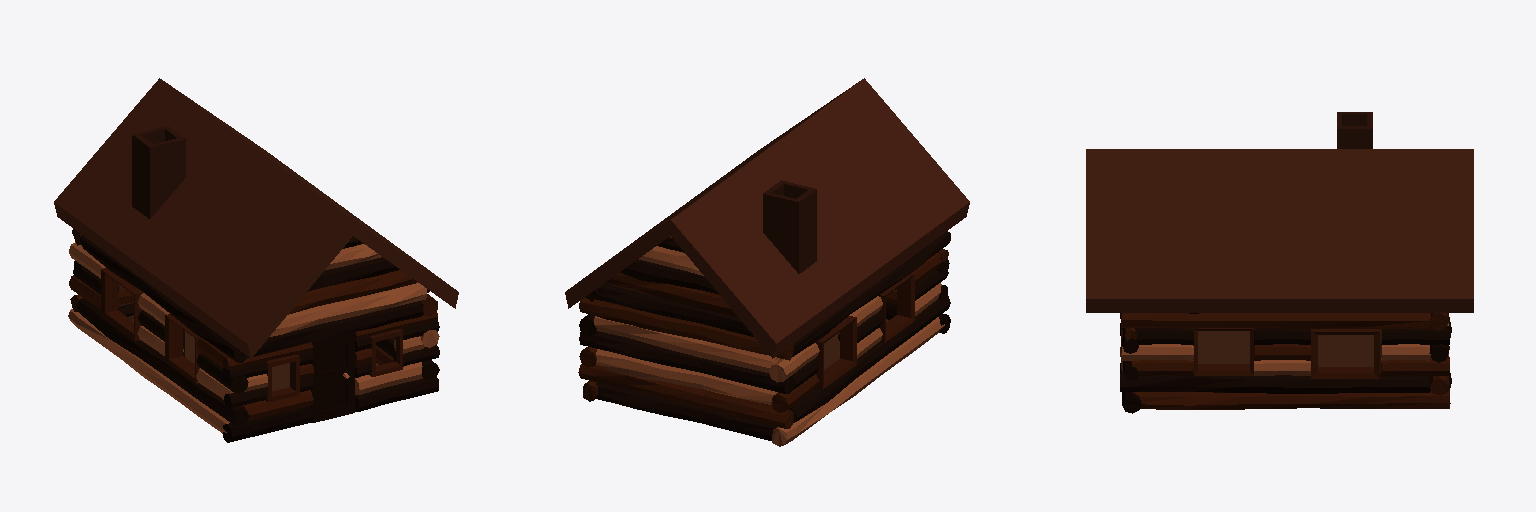
Rendered from cabin-wood.obj.
3 renders of one model, left to right at view 1: azimuth 30°, elevation 25°; view 2: azimuth 150°, elevation 25°; view 3: azimuth 270°, elevation 25°, orthographic.
Parts seen in each view (by area): view 1: Roof_Cube.005, Chamine_Cube.004, Door_Cube.007, log_base.005_Cylinder.015, log_base.026_Cylinder.047, log_base.025_Cylinder.046, log_base.004_Cylinder.014, log_base.007_Cylinder.017, log_base.027_Cylinder.048, Frame_Window_Front_Cube.009, Frame_Win_Side2_Cube.014, log_to_cut.030_Cylinder.061 (+12 smaller); view 2: Roof_Cube.005, Chamine_Cube.004, log_base.009_Cylinder.028, log_base.011_Cylinder.030, log_base.013_Cylinder.032, log_base.010_Cylinder.029, log_base.012_Cylinder.031, log_base.008_Cylinder.027, log_base.005_Cylinder.015, log_base.004_Cylinder.014, log_base.014_Cylinder.033, log_base.007_Cylinder.017 (+7 smaller); view 3: Roof_Cube.005, log_base.001_Cylinder.003, log_base_Cylinder.001, log_base.003_Cylinder.005, House_Cube.001, Frame_Win_Side2_Cube.014, Chamine_Cube.004, Frame_Win_Side1_Cube.013, log_to_cut.007_Cylinder.012, log_to_cut.006_Cylinder.011, log_to_cut.002_Cylinder.007, log_to_cut_Cylinder.002 (+5 smaller).
Part boxes in pixels (x1,y1,x2,y2): Roof_Cube.005: (54, 78, 458, 358); Chamine_Cube.004: (132, 126, 185, 218); Door_Cube.007: (310, 332, 354, 422); log_base.005_Cylinder.015: (77, 298, 249, 425); log_base.026_Cylinder.047: (270, 282, 426, 336); log_base.025_Cylinder.046: (248, 301, 423, 357); log_base.004_Cylinder.014: (68, 309, 229, 433); log_base.007_Cylinder.017: (79, 235, 247, 362); log_base.027_Cylinder.048: (288, 270, 416, 314); Frame_Window_Front_Cube.009: (265, 329, 402, 402); Frame_Win_Side2_Cube.014: (101, 268, 143, 341); log_to_cut.030_Cylinder.061: (223, 406, 313, 442); Roof_Cube.005: (565, 78, 969, 358); Chamine_Cube.004: (763, 180, 816, 273); log_base.009_Cylinder.028: (578, 364, 793, 428); log_base.011_Cylinder.030: (579, 331, 793, 393); log_base.013_Cylinder.032: (579, 297, 793, 360); log_base.010_Cylinder.029: (596, 349, 777, 404); log_base.012_Cylinder.031: (594, 316, 780, 372); log_base.008_Cylinder.027: (596, 382, 776, 440); log_base.005_Cylinder.015: (789, 295, 950, 422); log_base.004_Cylinder.014: (772, 317, 944, 446); log_base.014_Cylinder.033: (596, 283, 753, 336); log_base.007_Cylinder.017: (792, 231, 950, 356); Roof_Cube.005: (1086, 149, 1473, 312); log_base.001_Cylinder.003: (1120, 373, 1430, 393); log_base_Cylinder.001: (1133, 390, 1450, 409); log_base.003_Cylinder.005: (1121, 313, 1430, 328); House_Cube.001: (1198, 329, 1381, 372); Frame_Win_Side2_Cube.014: (1311, 329, 1379, 378); Chamine_Cube.004: (1337, 112, 1372, 148); Frame_Win_Side1_Cube.013: (1193, 328, 1253, 375); log_to_cut.007_Cylinder.012: (1381, 356, 1449, 375); log_to_cut.006_Cylinder.011: (1381, 326, 1449, 344); log_to_cut.002_Cylinder.007: (1121, 344, 1193, 360); log_to_cut_Cylinder.002: (1132, 328, 1193, 344).
Size of the model in its own units: 2.97 by 2.83 by 4.65.